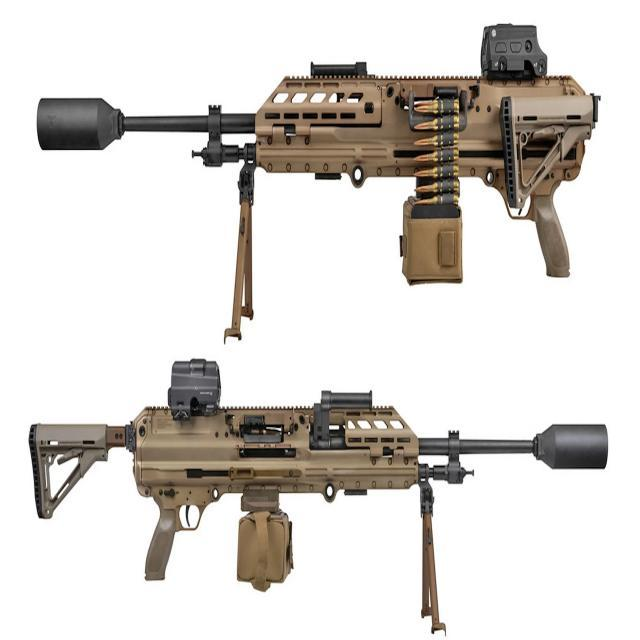weapon: (36, 21, 604, 344), (28, 356, 610, 638)
